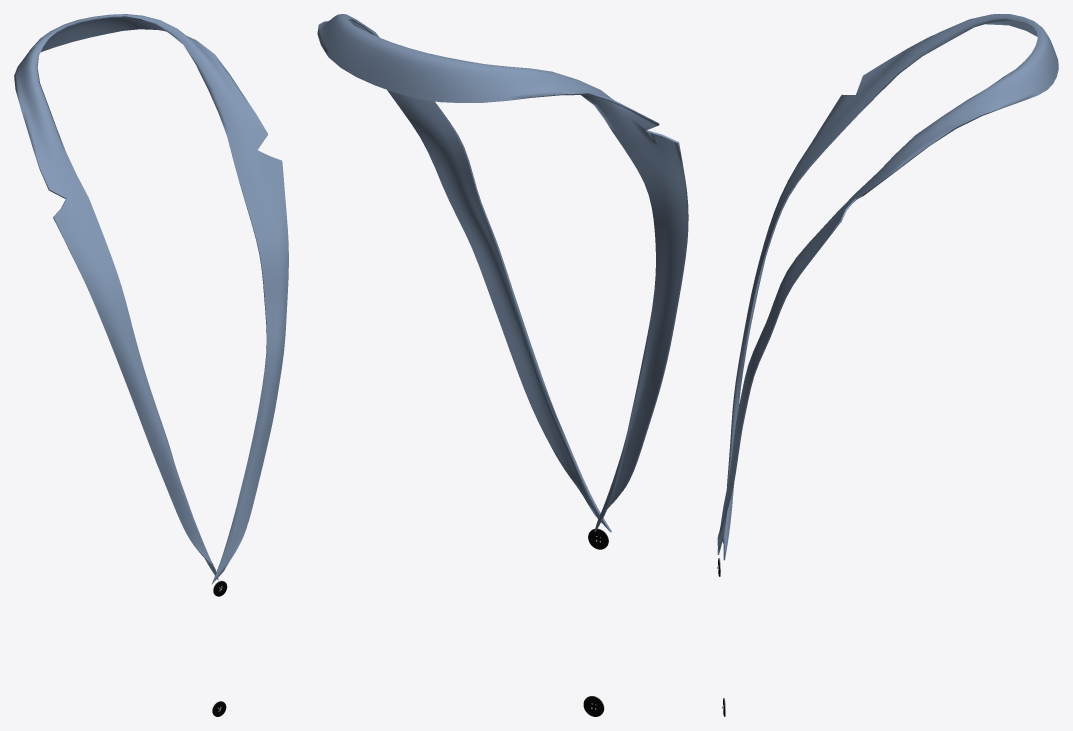
The model's file is SM_CarlosSA_Jacket_SingleBreasted_Lapel_Notched4CM.fbx.
3 views of the same model, side by side, from view 1: azimuth 30°, elevation 25°; view 2: azimuth 150°, elevation 25°; view 3: azimuth 270°, elevation 25° (orthographic). The views are drawn at different scales.
Visible parts, largest first — view 1: SM_CarlosSA_Jacket_SingleBreasted_Lapel_Notched4CM; view 2: SM_CarlosSA_Jacket_SingleBreasted_Lapel_Notched4CM; view 3: SM_CarlosSA_Jacket_SingleBreasted_Lapel_Notched4CM.
Boxes of the visible parts, bbox=[...] form: SM_CarlosSA_Jacket_SingleBreasted_Lapel_Notched4CM: bbox=[14, 14, 288, 716]; SM_CarlosSA_Jacket_SingleBreasted_Lapel_Notched4CM: bbox=[317, 14, 688, 716]; SM_CarlosSA_Jacket_SingleBreasted_Lapel_Notched4CM: bbox=[717, 14, 1058, 716].
Size of the model in its own units: 0.228 by 0.5677 by 0.2594.
